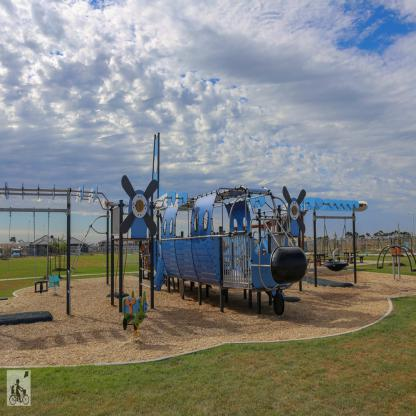CIV_Plane: (113, 125, 314, 340)
